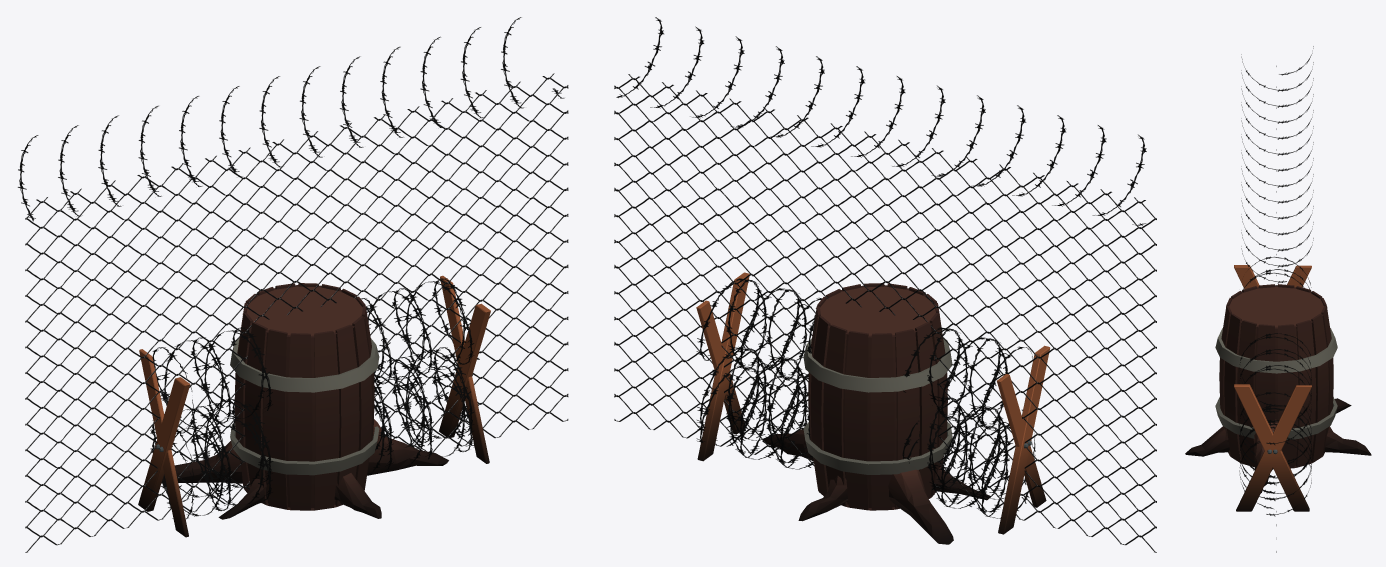
Rendered from Gwj 82.glb.
3 renders of one model, left to right at view 1: azimuth 30°, elevation 25°; view 2: azimuth 150°, elevation 25°; view 3: azimuth 270°, elevation 25°, orthographic. The views are drawn at different scales.
Visible parts, largest first — view 1: Big Barbed Fence, Wooden Barrel, Barbed Fence, Tree Stump, Barbed Wire; view 2: Big Barbed Fence, Wooden Barrel, Barbed Fence, Tree Stump, Barbed Wire; view 3: Wooden Barrel, Barbed Fence, Big Barbed Fence, Tree Stump, Barbed Wire.
Part boxes in pixels (left/top/right/bottom): Big Barbed Fence: left=18, top=17, right=568, bottom=552; Wooden Barrel: left=230, top=283, right=379, bottom=510; Barbed Fence: left=138, top=275, right=490, bottom=537; Tree Stump: left=162, top=419, right=448, bottom=519; Barbed Wire: left=150, top=366, right=474, bottom=518; Big Barbed Fence: left=614, top=17, right=1156, bottom=552; Wooden Barrel: left=803, top=283, right=952, bottom=510; Barbed Fence: left=696, top=272, right=1050, bottom=534; Tree Stump: left=762, top=429, right=991, bottom=544; Barbed Wire: left=696, top=365, right=1035, bottom=518; Wooden Barrel: left=1215, top=284, right=1337, bottom=469; Barbed Fence: left=1234, top=256, right=1311, bottom=511; Big Barbed Fence: left=1241, top=46, right=1313, bottom=552; Tree Stump: left=1185, top=398, right=1371, bottom=493; Barbed Wire: left=1239, top=407, right=1311, bottom=516.
Size of the model in its own units: 4.2 by 3.07 by 1.53.
Materials: 3 (3 with a texture image).
